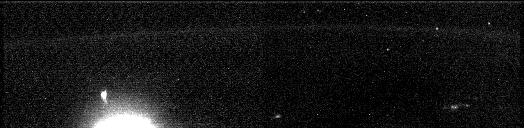positive: (96, 86, 113, 107)
